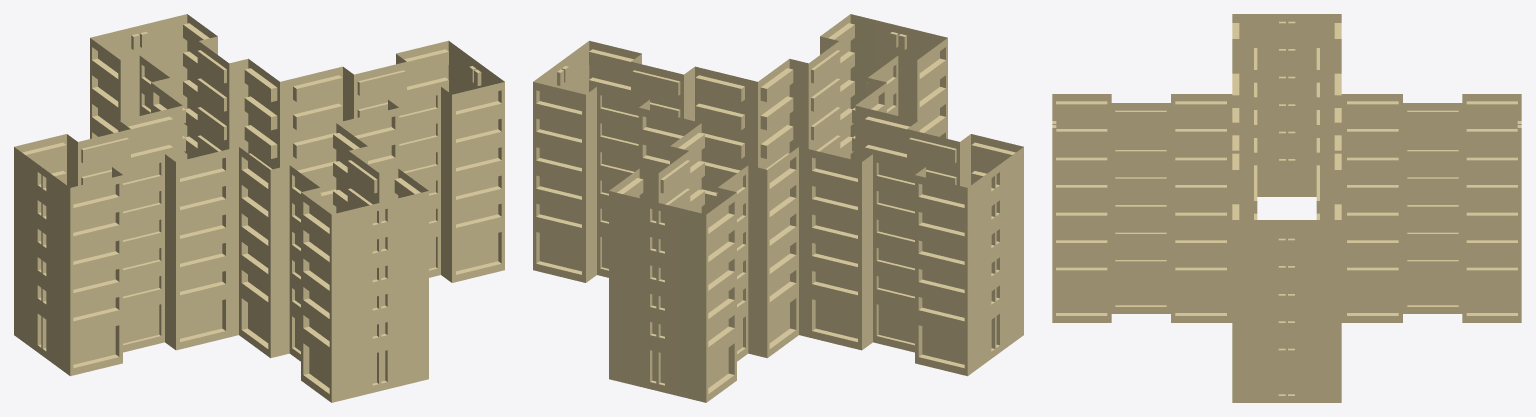
The model's file is Back_Building_03.fbx.
The picture shows the model from 3 angles, left to right: view 1: azimuth 30°, elevation 25°; view 2: azimuth 150°, elevation 25°; view 3: azimuth 270°, elevation 25°; orthographic projection. The views are drawn at different scales.
Parts seen in each view (by area): view 1: Back_Building_03; view 2: Back_Building_03; view 3: Back_Building_03.
Boxes of the visible parts, left/top/right/bottom form: Back_Building_03: left=14, top=14, right=504, bottom=402; Back_Building_03: left=533, top=14, right=1023, bottom=402; Back_Building_03: left=1052, top=14, right=1521, bottom=402.
Bounding box in the file's own units: 4593 × 1902 × 4421.
